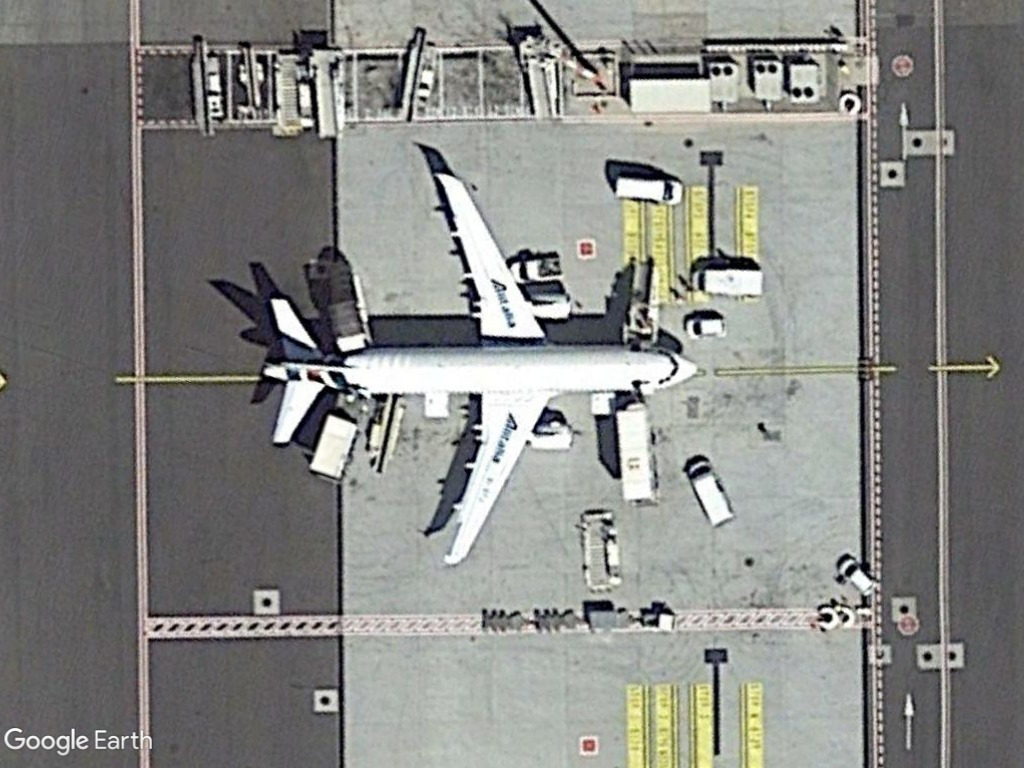airliner: (256, 168, 704, 572)
car: (832, 552, 879, 600), (680, 312, 731, 342)
stairtruck: (305, 43, 358, 141)
van: (683, 452, 736, 528), (688, 256, 769, 303), (608, 170, 685, 207)
